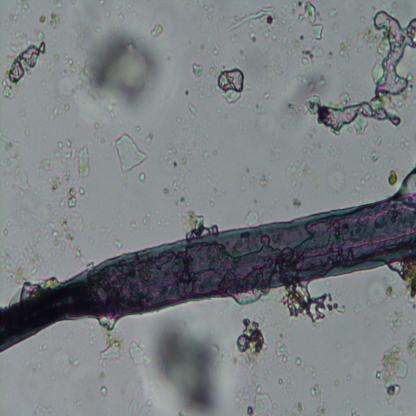Air bubble: (307, 10, 416, 129)
Background material: (148, 316, 232, 413), (78, 28, 166, 116), (0, 211, 79, 286), (233, 316, 275, 414), (42, 136, 90, 207), (0, 33, 47, 102), (282, 285, 345, 327), (45, 51, 76, 123), (164, 140, 194, 210), (99, 326, 149, 365), (376, 345, 409, 404), (226, 7, 280, 43), (312, 164, 373, 195), (288, 72, 329, 118), (0, 134, 30, 194), (298, 0, 324, 65), (115, 129, 150, 177), (354, 274, 393, 314), (274, 332, 308, 372), (337, 27, 378, 58), (387, 258, 416, 300), (214, 66, 245, 104), (166, 101, 201, 133), (181, 212, 220, 240), (300, 133, 337, 162), (380, 303, 410, 336), (192, 60, 216, 96), (126, 391, 154, 416), (240, 164, 269, 188), (284, 158, 308, 186), (127, 210, 163, 228), (244, 197, 266, 226), (5, 2, 34, 24), (381, 134, 416, 152), (39, 11, 62, 32), (252, 89, 272, 113), (98, 366, 113, 398), (307, 376, 324, 401), (204, 184, 222, 206), (205, 32, 219, 59), (190, 0, 213, 16), (108, 230, 124, 251), (146, 20, 163, 38), (276, 374, 290, 394), (196, 148, 208, 167), (368, 151, 382, 166), (193, 61, 204, 78), (387, 170, 398, 187), (67, 355, 80, 367), (289, 197, 304, 207), (51, 0, 64, 10), (144, 130, 154, 143), (179, 87, 190, 97), (117, 12, 127, 23), (136, 172, 146, 181), (98, 2, 108, 8), (211, 150, 216, 156)
Cotton: (0, 194, 416, 354)
